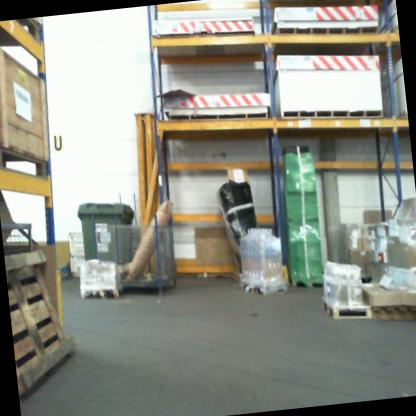pallet: (6, 247, 89, 406), (291, 273, 322, 291), (230, 268, 242, 285)
stillage: (87, 204, 181, 304), (1, 218, 34, 254)
